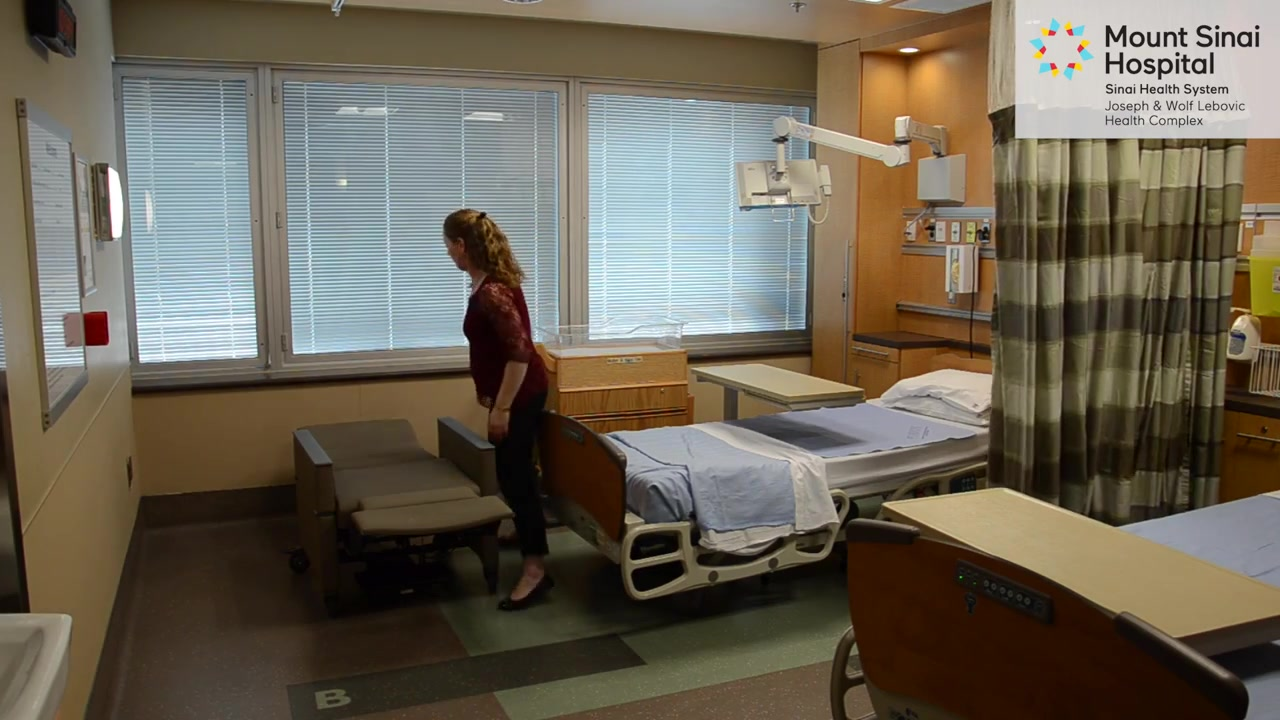bedrail: (615, 486, 858, 602), (829, 625, 877, 720)
bedside_monitor: (731, 155, 834, 214)
bedside_table: (849, 330, 961, 400)
curtain: (983, 1, 1244, 524)
dispenser: (1225, 305, 1265, 365), (943, 243, 971, 303)
foot_board: (844, 516, 1250, 717), (530, 407, 630, 565)
handle: (840, 237, 852, 383), (1236, 429, 1280, 452), (849, 341, 891, 359)
hospital_bed: (530, 366, 1001, 603), (830, 485, 1280, 720)
overbed_table: (872, 485, 1280, 658), (691, 362, 868, 410)
person: (439, 205, 558, 620)
sofa: (288, 411, 517, 617)
table: (539, 341, 690, 424)
